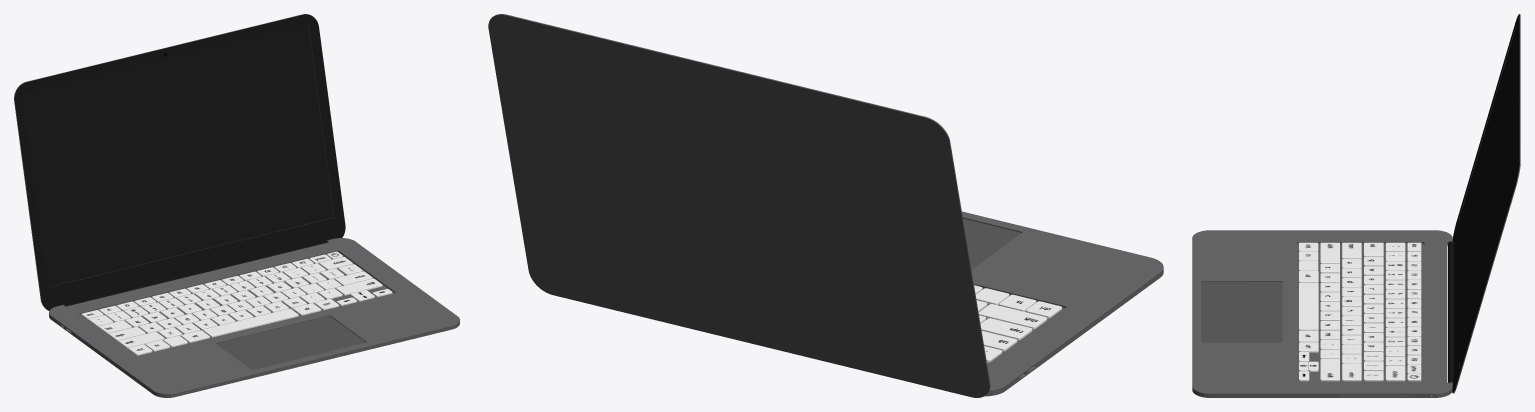
The model's file is laptop.fbx.
3 views of the same model, side by side, from view 1: azimuth 30°, elevation 25°; view 2: azimuth 150°, elevation 25°; view 3: azimuth 270°, elevation 25° (orthographic). The views are drawn at different scales.
Parts seen in each view (by area): view 1: monitor, body, keyboard; view 2: monitor, body, keyboard; view 3: body, keyboard, monitor.
Boxes of the visible parts, x1,y1,x2,y2 form: monitor: [14, 14, 345, 310]; body: [49, 238, 459, 397]; keyboard: [81, 251, 392, 355]; monitor: [488, 14, 990, 397]; body: [962, 211, 1163, 396]; keyboard: [974, 285, 1061, 363]; body: [1192, 230, 1452, 397]; keyboard: [1299, 242, 1421, 381]; monitor: [1448, 14, 1520, 393].
Size of the model in its own units: 445 by 290 by 378.
